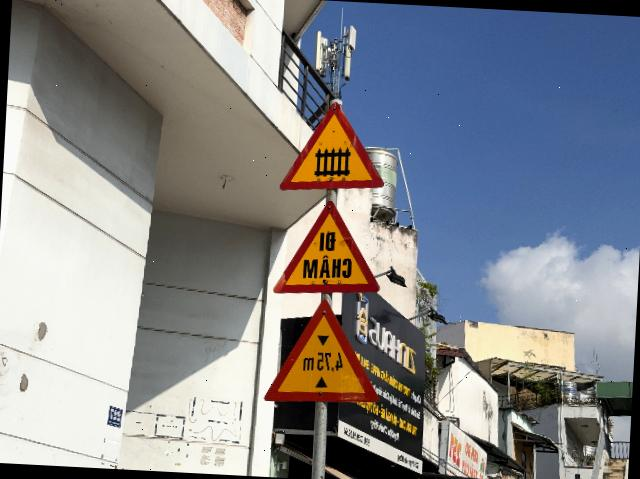chieu-cao-tinh-khong-thuc-te: (262, 296, 384, 408)
di-cham: (273, 197, 385, 299)
noi-giao-nhau-voi-duong-sat-co-rao-chan: (278, 100, 388, 196)
